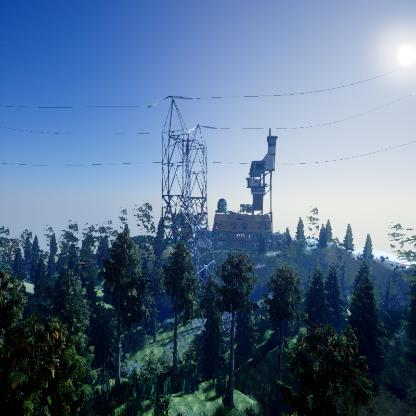tower: (145, 92, 213, 297)
